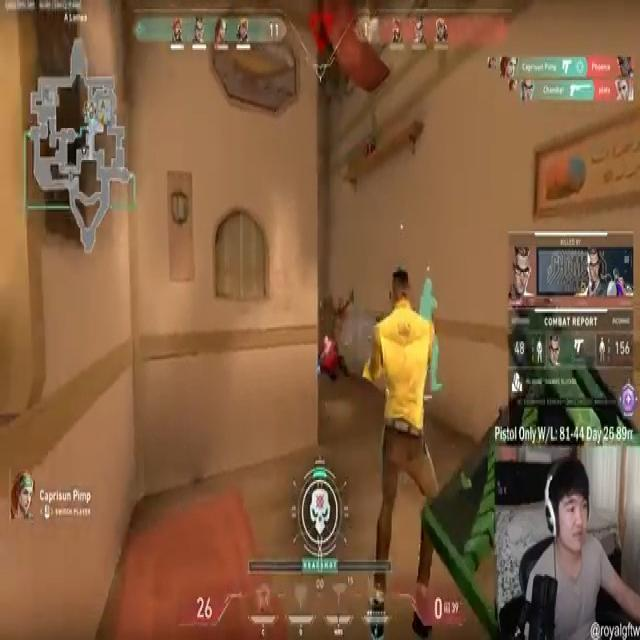ally: (366, 263, 441, 621)
ally behind wall: (417, 270, 445, 399)
